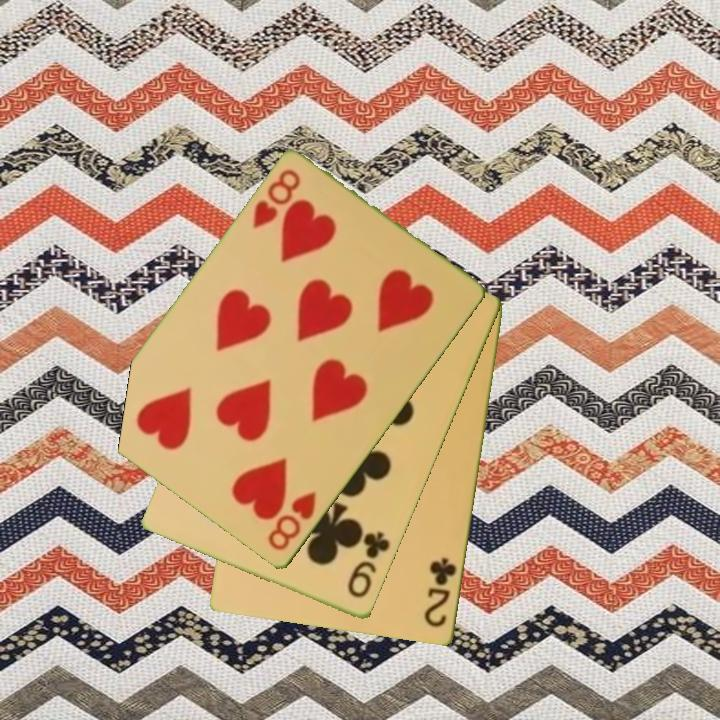2c: (421, 554, 460, 631)
8h: (264, 489, 320, 555), (249, 166, 304, 232)
9c: (344, 528, 393, 602)
